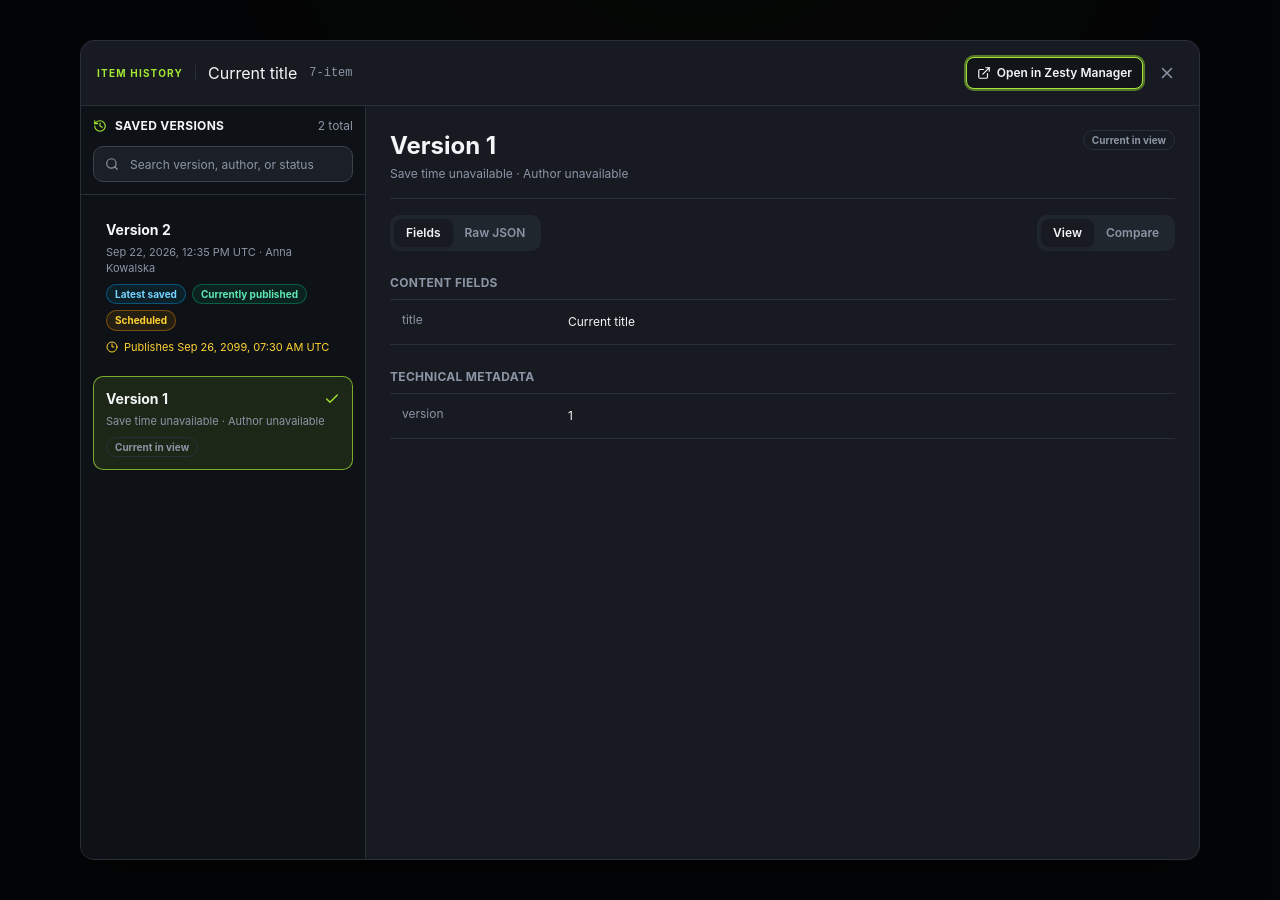
Scenario: ItemDetails version preview › switches fields and raw JSON together and shows enriched version statuses
Expected: the text "Latest saved" is shown, [106,284,186,304]
Expected: the text "Currently published" is shown, [192,284,307,304]
Step 1. Click the button "Version 2" → {"x": 223, "y": 287}, box [93,207,353,368]
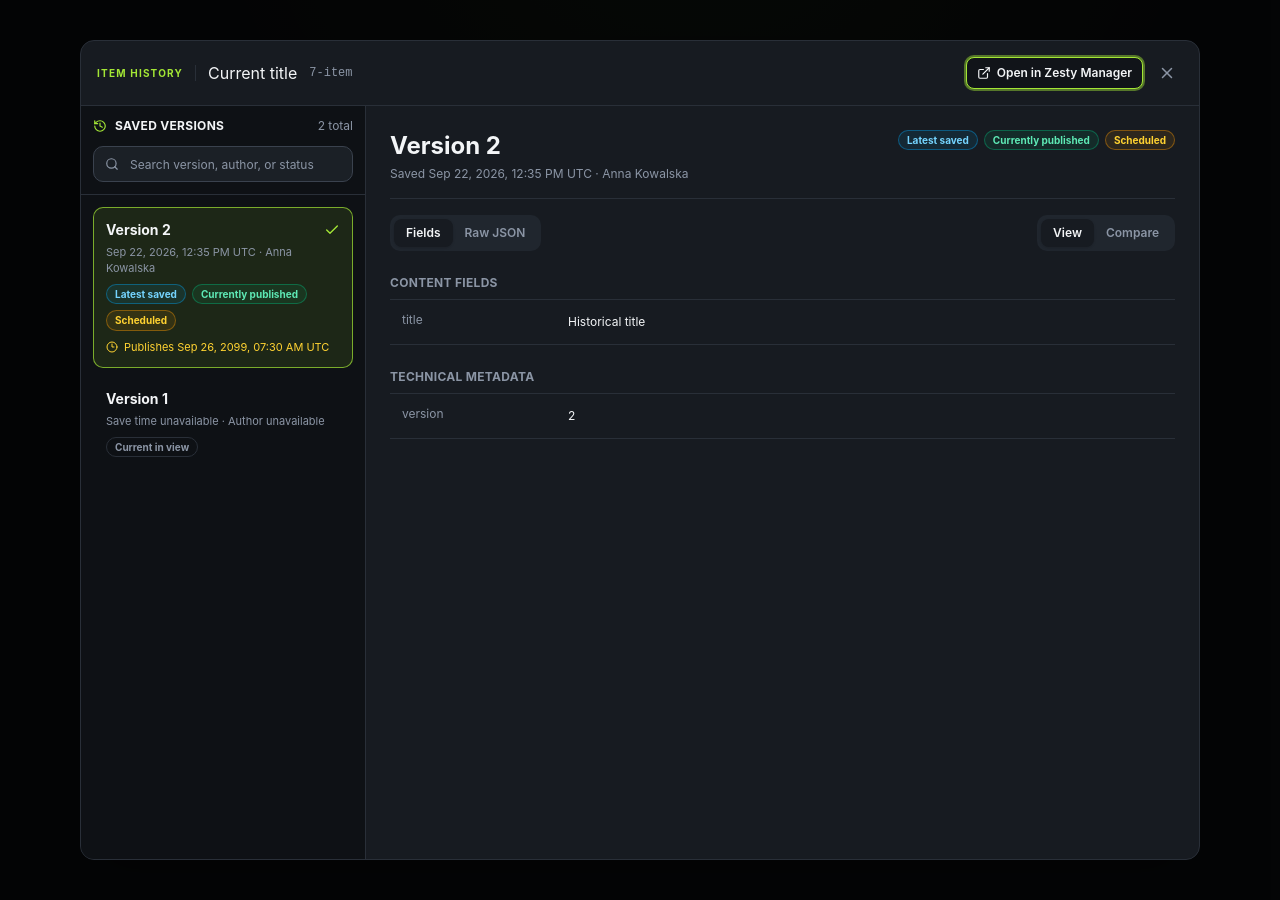
Now the heading "Version 2" is shown, box [390,131,501,160]
Now the text "Historical title" is shown, box [568,314,645,329]
Step 2. Click the tab "Raw JSON" → {"x": 495, "y": 233}, box [452,219,537,247]
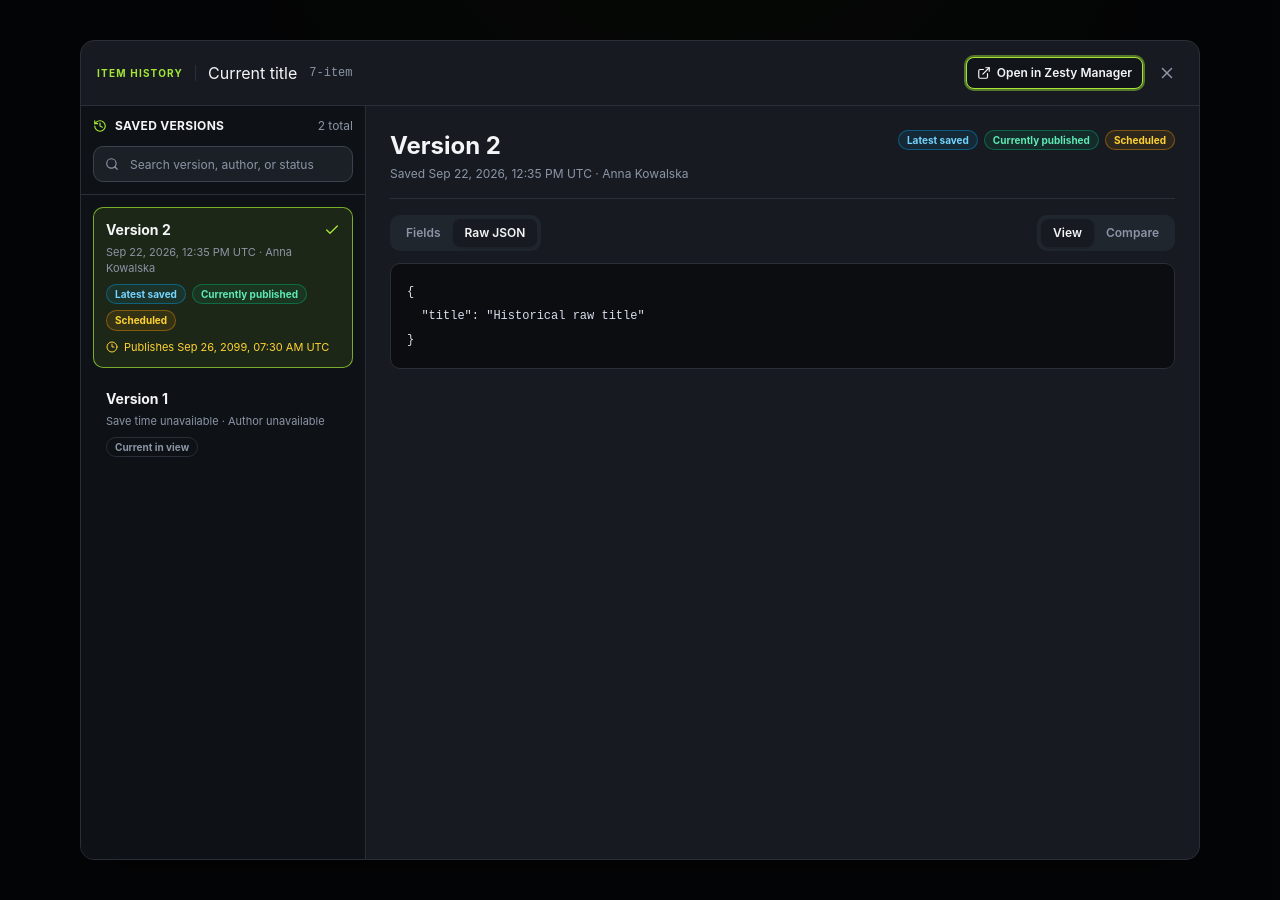
Now the text "{ \"title\": \"Historical raw title\" }" is shown, box [390,263,1175,369]
